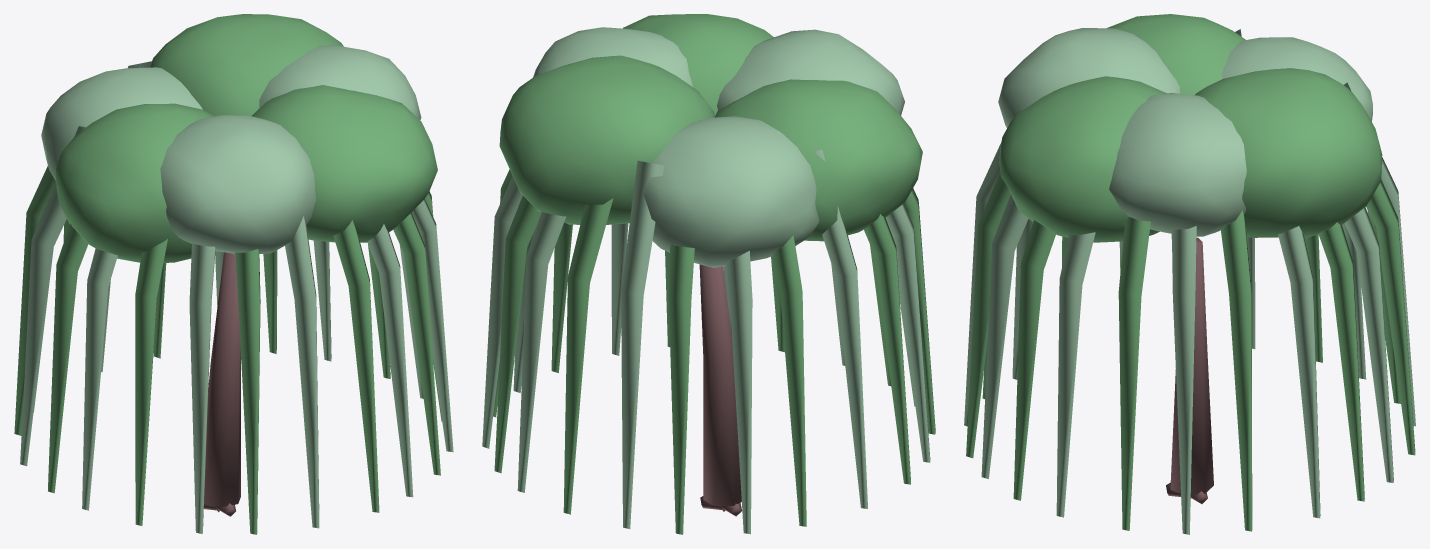
The model's file is willow_b1.glb.
The picture shows the model from 3 angles, left to right: view 1: azimuth 30°, elevation 25°; view 2: azimuth 150°, elevation 25°; view 3: azimuth 270°, elevation 25°; orthographic projection. The views are drawn at different scales.
Visible parts, largest first — view 1: willow_b1; view 2: willow_b1; view 3: willow_b1.
Boxes of the visible parts, bbox=[...] form: willow_b1: bbox=[14, 14, 453, 534]; willow_b1: bbox=[482, 14, 935, 534]; willow_b1: bbox=[964, 14, 1415, 534].
Size of what is drawn, in the model's own units: 10.12 by 11 by 10.
